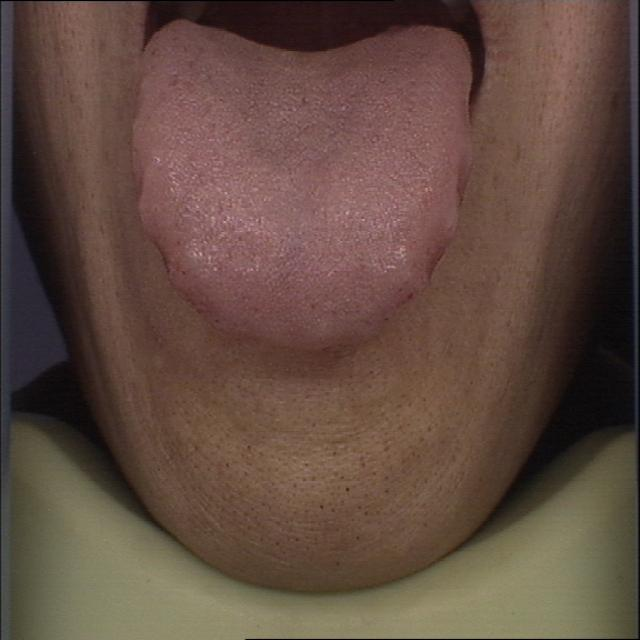tongue: (126, 17, 482, 360)
